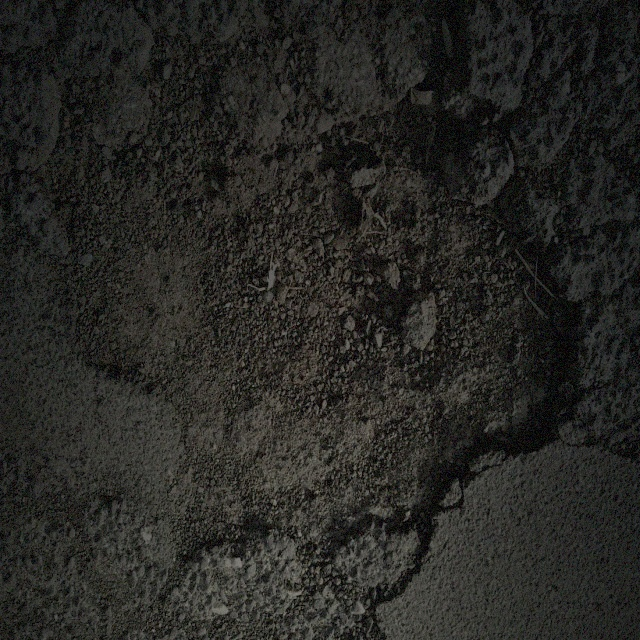pothole: (37, 25, 602, 562)
